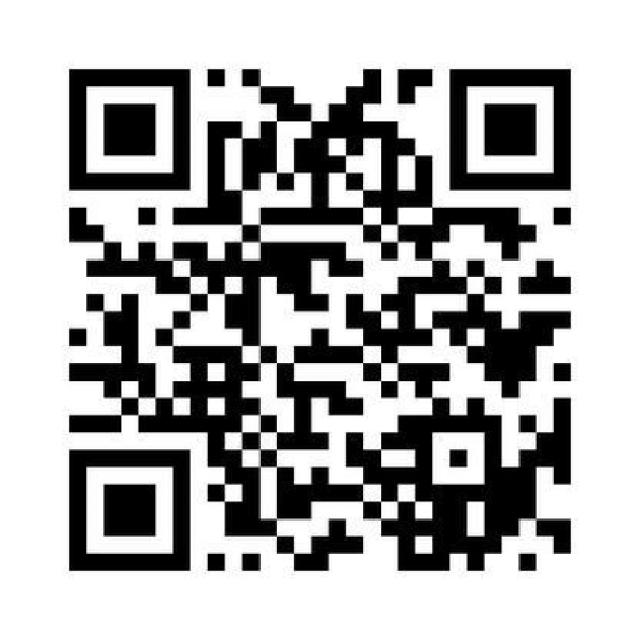QRCode: (59, 54, 583, 584)
